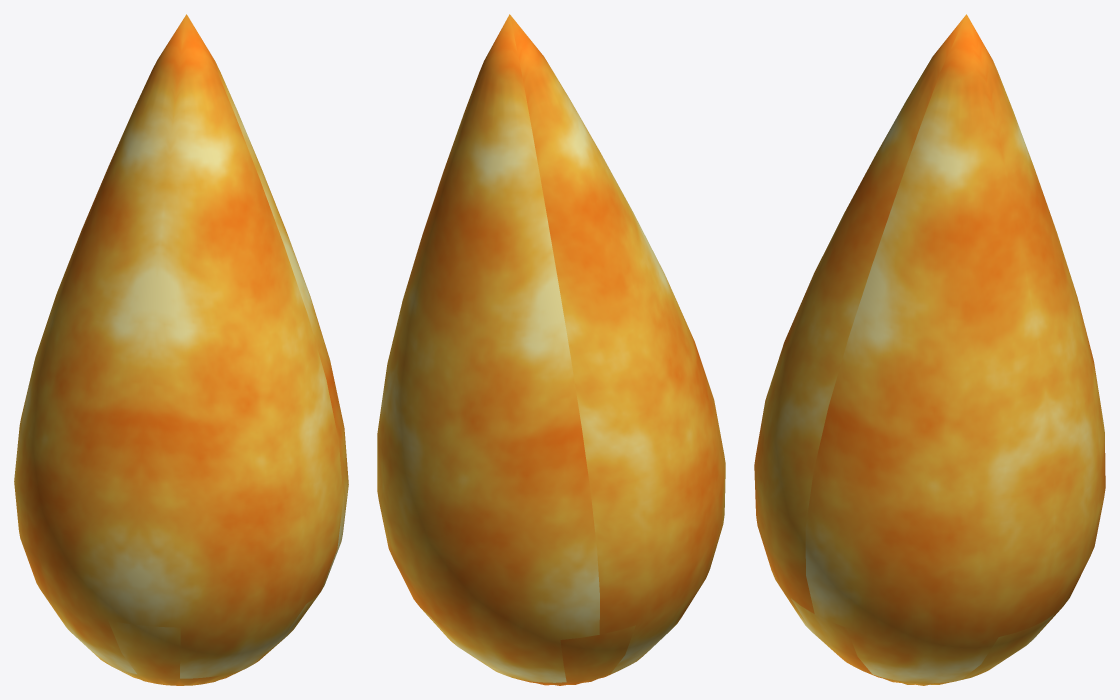
File: flama.obj
The picture shows the model from 3 angles, left to right: view 1: azimuth 30°, elevation 25°; view 2: azimuth 150°, elevation 25°; view 3: azimuth 270°, elevation 25°; orthographic projection. The views are drawn at different scales.
Visible parts, largest first — view 1: Flama_1; view 2: Flama_1; view 3: Flama_1.
Boxes of the visible parts, bbox=[...] form: Flama_1: bbox=[14, 14, 348, 685]; Flama_1: bbox=[377, 14, 725, 685]; Flama_1: bbox=[754, 14, 1105, 685].
Size of the model in its own units: 0.0237 by 0.0502 by 0.0237.
1 material, 1 textured.
